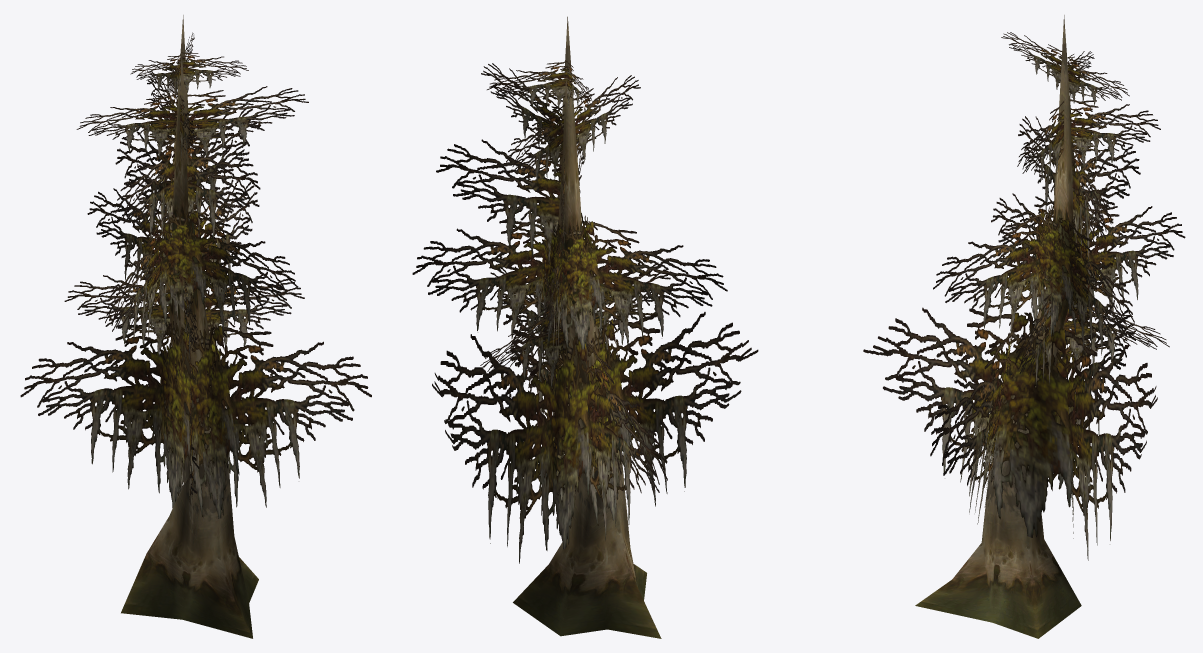
The model's file is dustwallowtree04.obj.
The picture shows the model from 3 angles, left to right: view 1: azimuth 30°, elevation 25°; view 2: azimuth 150°, elevation 25°; view 3: azimuth 270°, elevation 25°; orthographic projection. The views are drawn at different scales.
Visible parts, largest first — view 1: DUSTWALLOWTREE041, DUSTWALLOWTREE040; view 2: DUSTWALLOWTREE041, DUSTWALLOWTREE040; view 3: DUSTWALLOWTREE041, DUSTWALLOWTREE040.
Part boxes in pixels (<box>): DUSTWALLOWTREE041: <box>20,32,371,533</box>; DUSTWALLOWTREE040: <box>121,15,258,638</box>; DUSTWALLOWTREE041: <box>412,61,758,563</box>; DUSTWALLOWTREE040: <box>513,16,661,638</box>; DUSTWALLOWTREE041: <box>863,32,1185,560</box>; DUSTWALLOWTREE040: <box>915,15,1081,638</box>.
Bounding box in the file's own units: 26.84 × 56.54 × 32.35.
2 materials, 2 textured.
